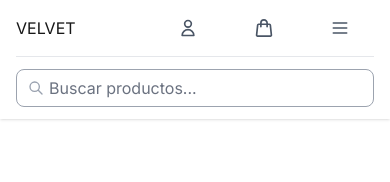
Test: Header › toggles mobile menu when hamburger is clicked
Click the button named "menú de navegación móvil": (340, 28) left=306, top=4, right=374, bottom=52
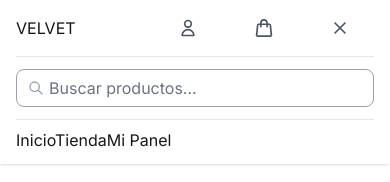
Check: the button named "menú de navegación móvil" is expanded, box left=306, top=4, right=374, bottom=52
